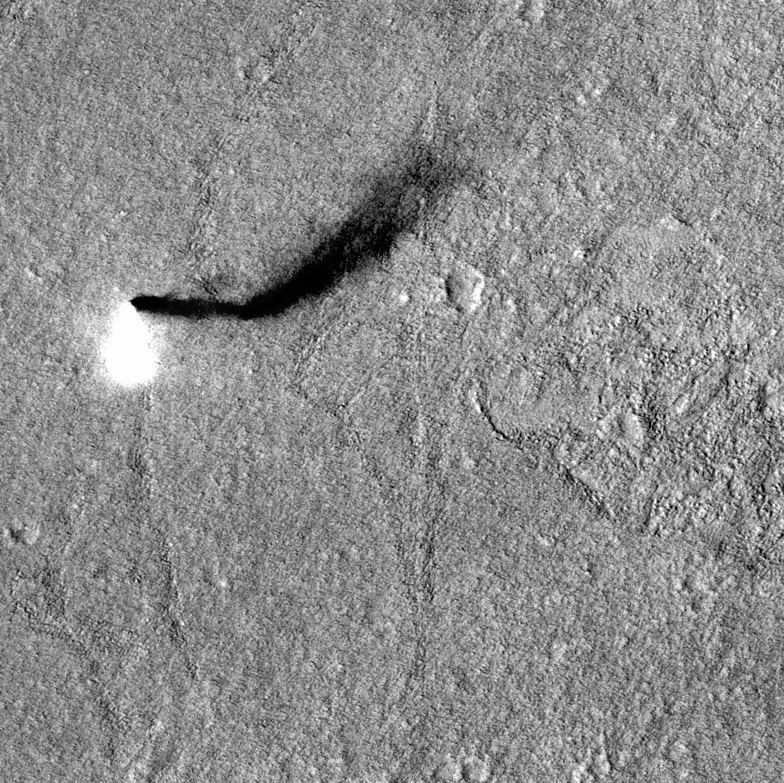dust_devil: (98, 129, 471, 391)
